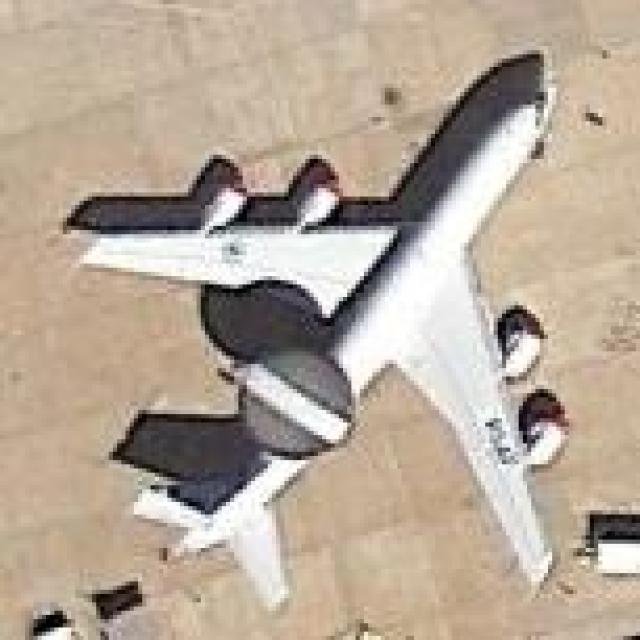E-3_TopDown: (59, 42, 573, 611)
